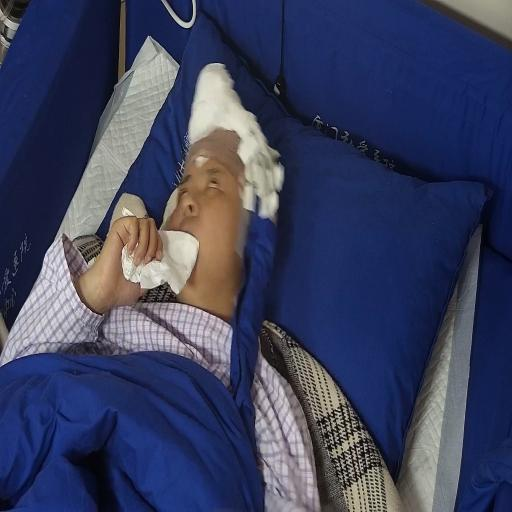Seizure: (162, 134, 262, 296)
